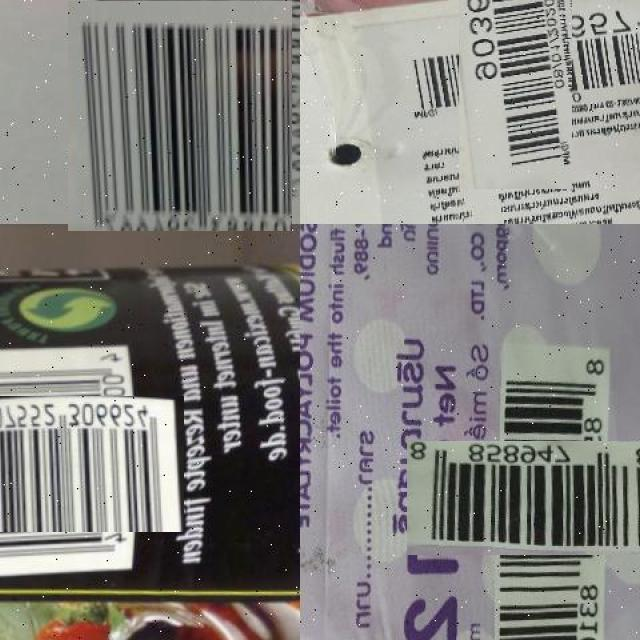Barcode: (64, 0, 296, 228), (448, 399, 640, 598), (0, 372, 160, 556), (424, 0, 606, 155)
